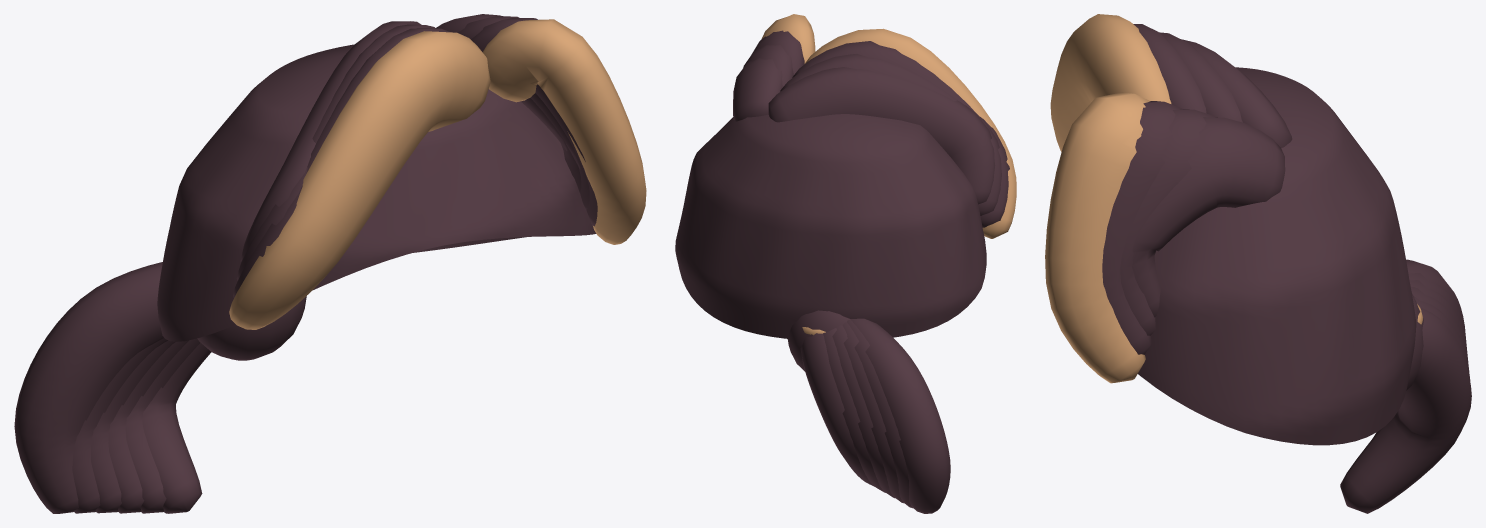
File: studio_low_ponytail_medium.glb
The picture shows the model from 3 angles, left to right: view 1: azimuth 30°, elevation 25°; view 2: azimuth 150°, elevation 25°; view 3: azimuth 270°, elevation 25°; orthographic projection. The views are drawn at different scales.
Visible parts, largest first — view 1: low_ponytail; view 2: low_ponytail; view 3: low_ponytail.
Part boxes in pixels (x1,y1,x2,y2): low_ponytail: (14, 14, 646, 513); low_ponytail: (675, 14, 1016, 513); low_ponytail: (1045, 14, 1471, 513).
Bounding box in the file's own units: 0.5701 × 0.6236 × 0.4381.
